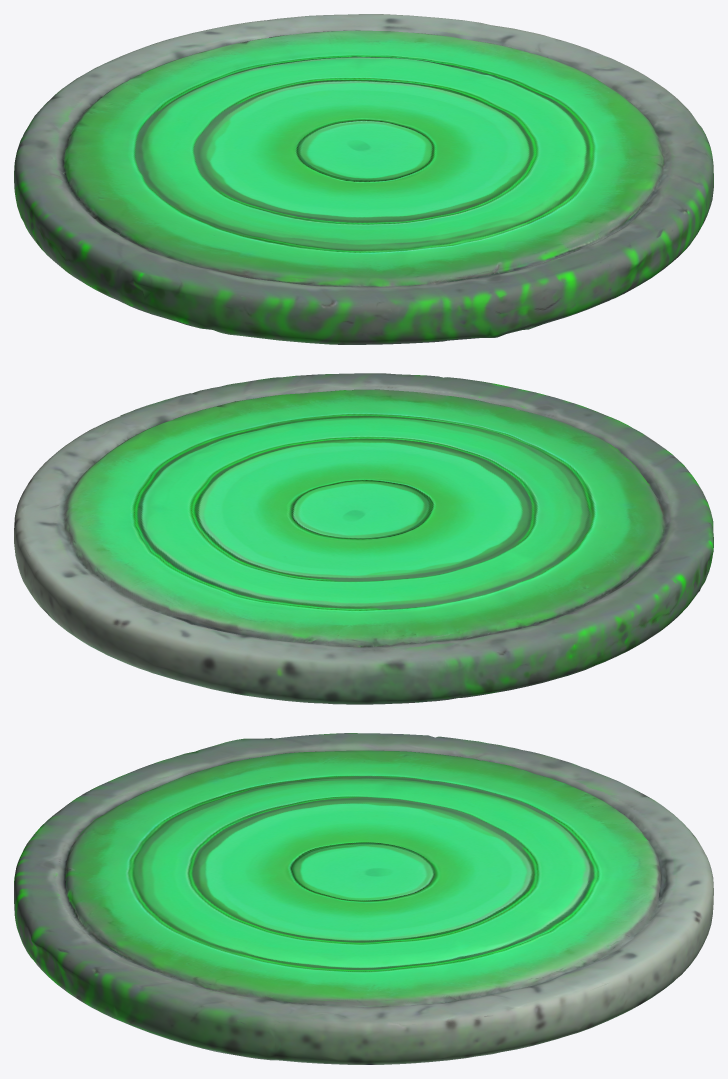
Rendered from target.glb.
The picture shows the model from 3 angles, top to bottom: view 1: azimuth 30°, elevation 25°; view 2: azimuth 150°, elevation 25°; view 3: azimuth 270°, elevation 25°; orthographic projection.
Size of the model in its own units: 2.01 by 0.1698 by 2.01.
Materials: 1 (1 with a texture image).
